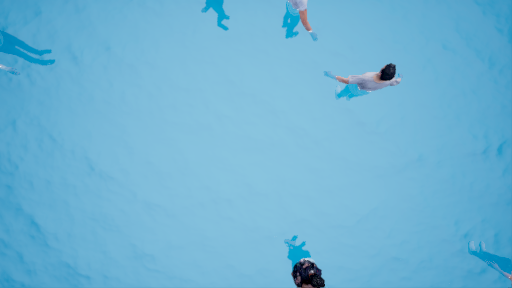person: (319, 59, 408, 113), (281, 236, 328, 288)
